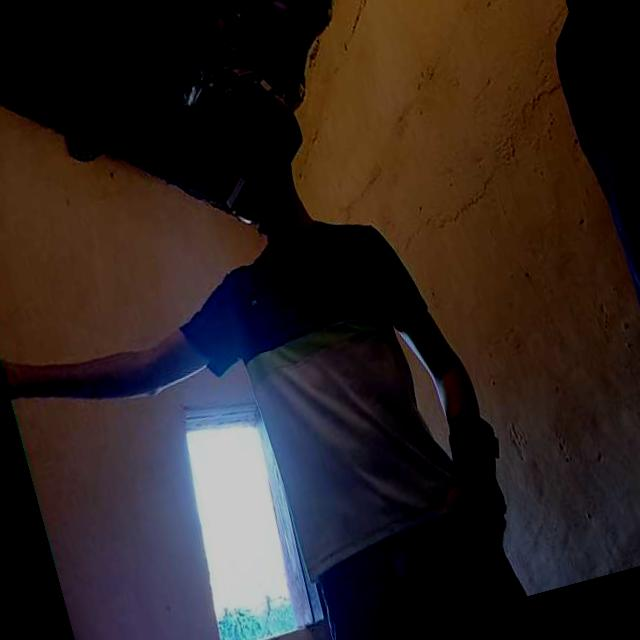capacete: (159, 42, 326, 264)
pessoa: (173, 69, 516, 640)
